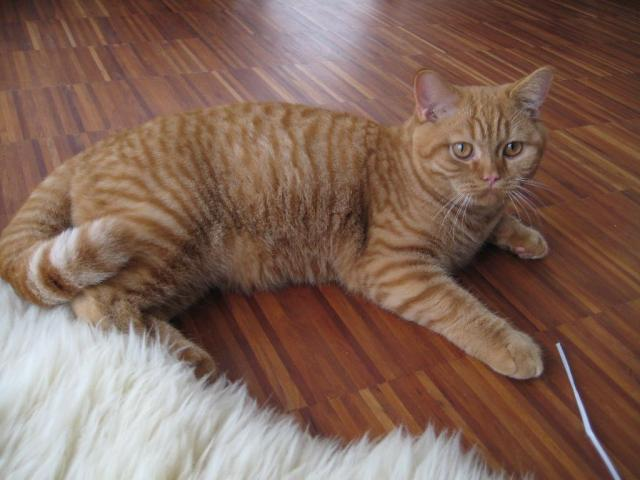Cat: (0, 64, 563, 379)
